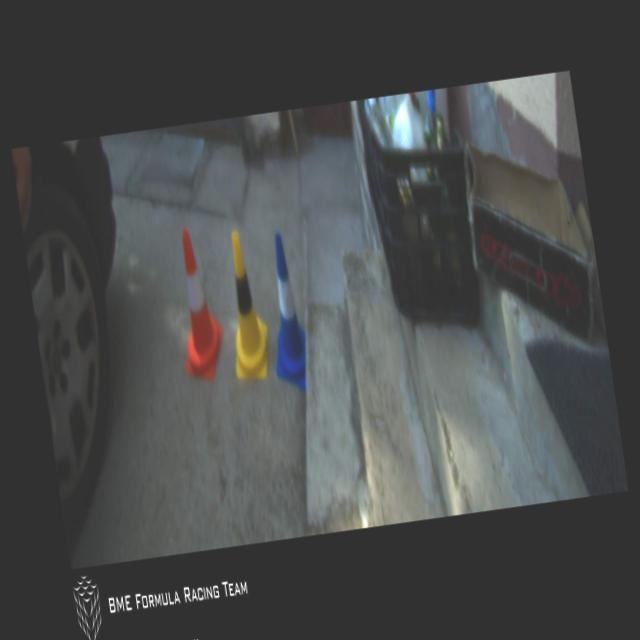blue_cone: (257, 231, 313, 394)
orange_cone: (164, 224, 230, 386)
yellow_cone: (217, 228, 274, 384)
